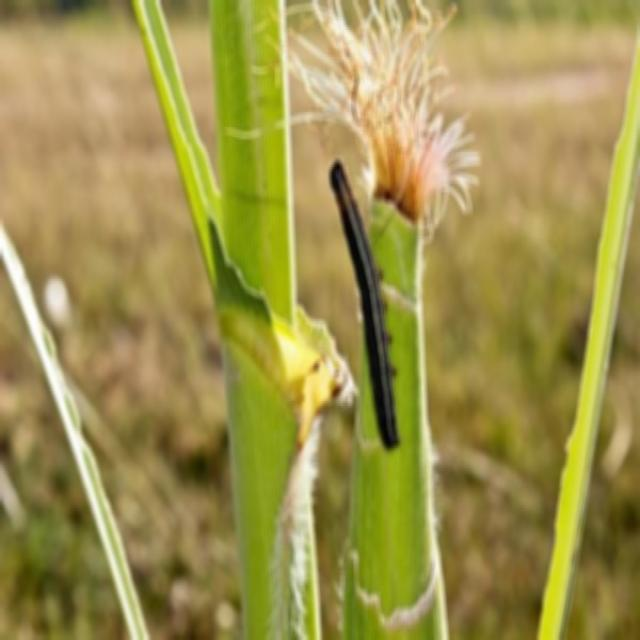army worm: (330, 158, 404, 459)
